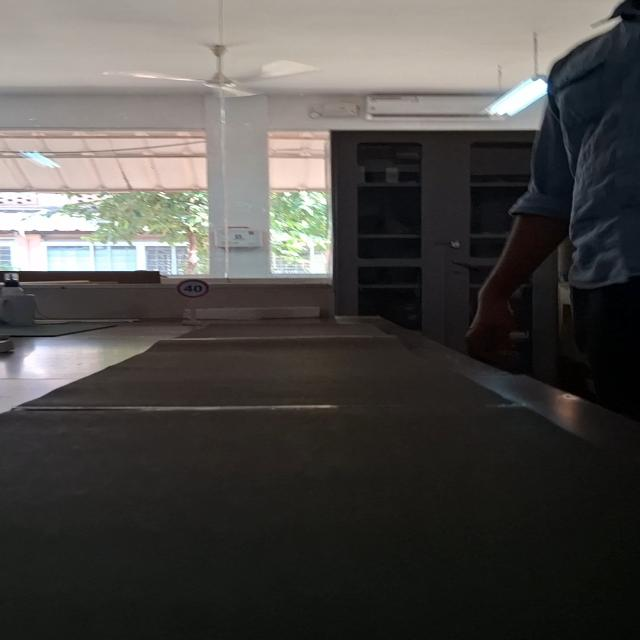Speed40: (176, 279, 210, 298)
